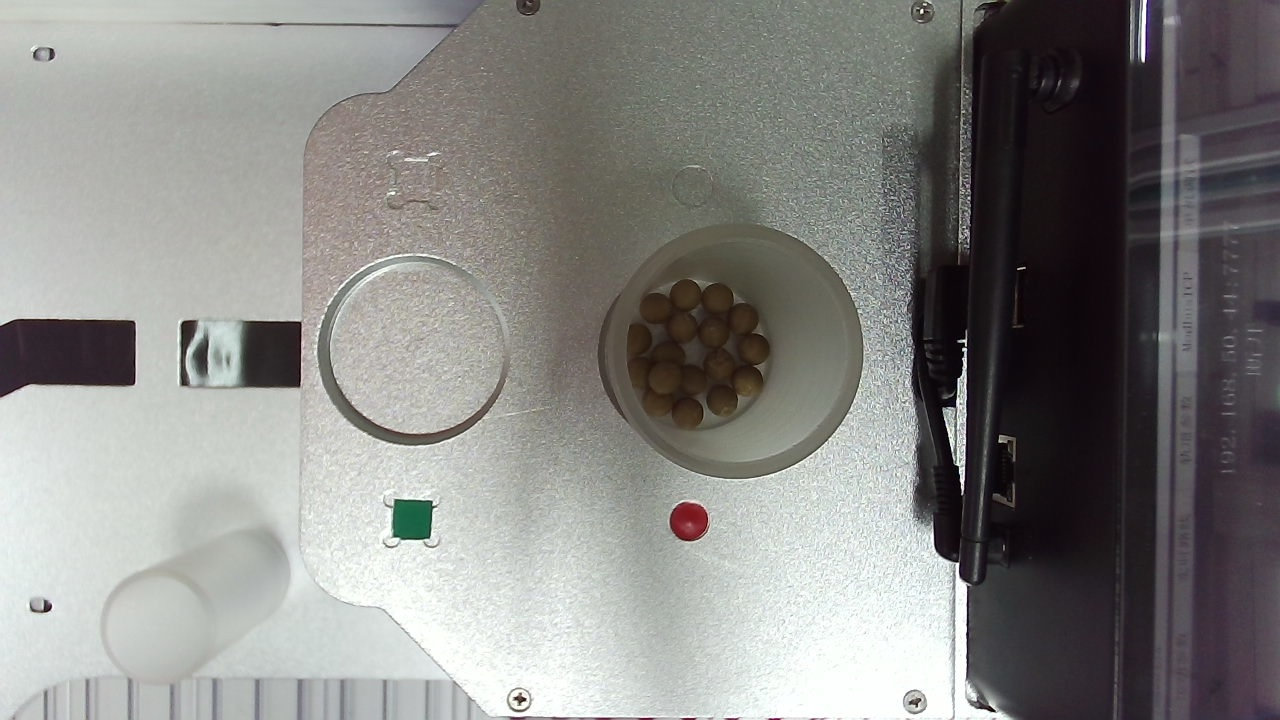XLabel: (368, 77, 428, 140)
YLabel: (795, 113, 866, 184)
none: (215, 211, 535, 535)
whiteempty: (678, 221, 1050, 599)
